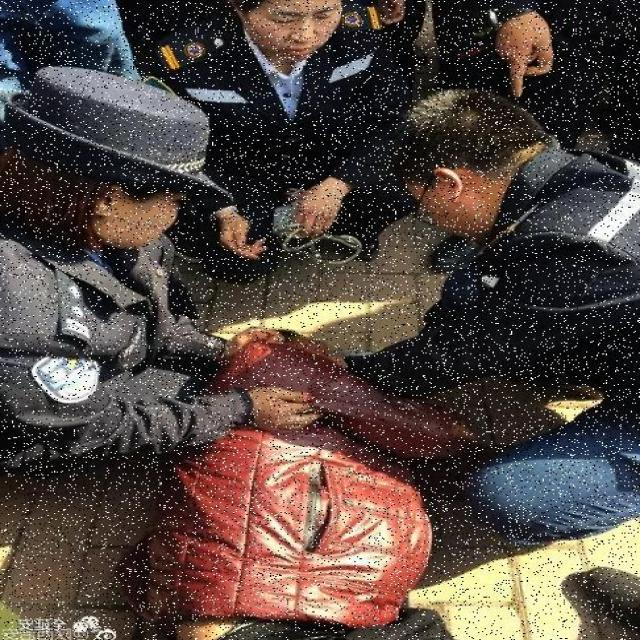fall: (137, 325, 450, 639)
